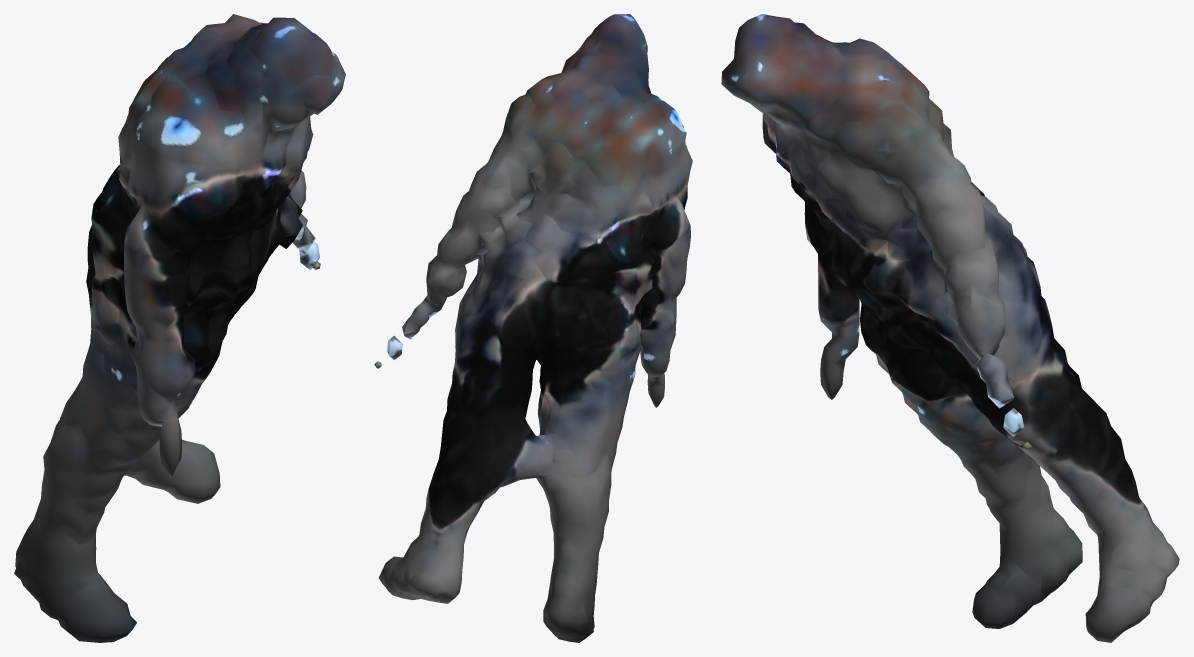
File: shadow-preview.glb
3 views of the same model, side by side, from view 1: azimuth 30°, elevation 25°; view 2: azimuth 150°, elevation 25°; view 3: azimuth 270°, elevation 25° (orthographic). The views are drawn at different scales.
Parts seen in each view (by area): view 1: mesh; view 2: mesh; view 3: mesh.
Part boxes in pixels (x1,y1,x2,y2): mesh: (14,14,345,642); mesh: (374,14,692,642); mesh: (721,14,1179,642).
Size of the model in its own units: 0.4094 by 0.9136 by 0.6007.
1 material, 1 textured.
